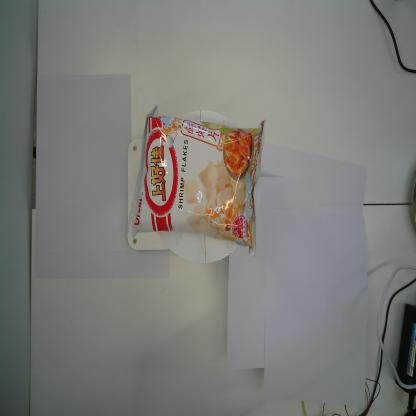Puffed Food: (126, 105, 266, 258)
